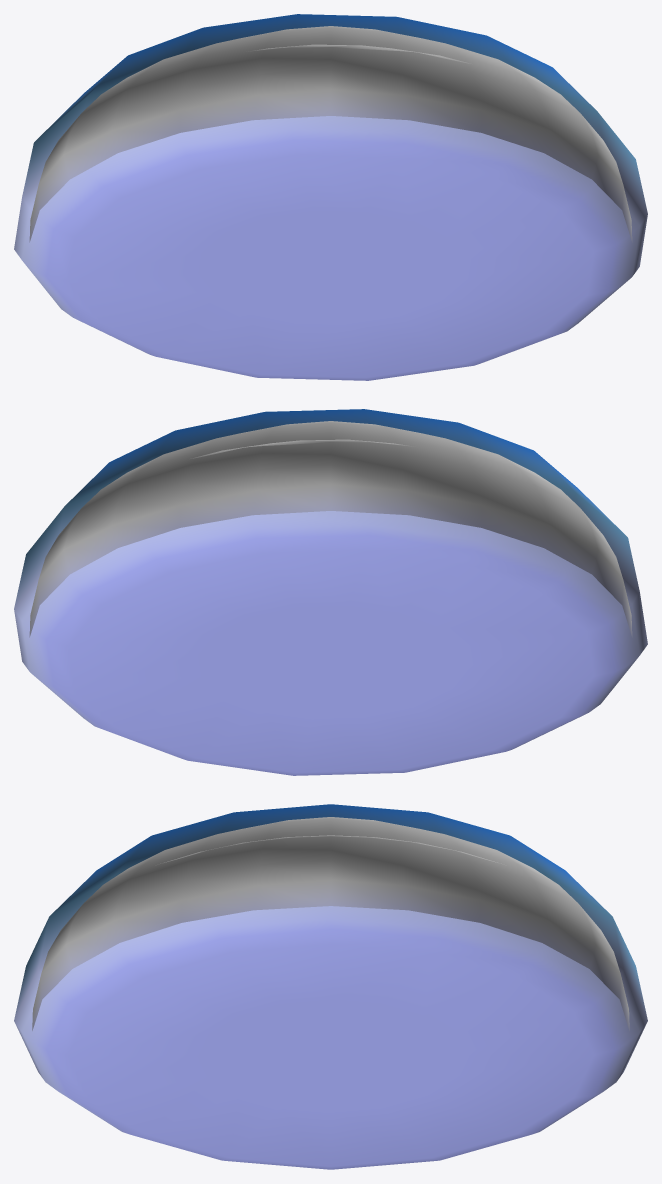
The model's file is DJSky.gltf.
3 views of the same model, one above another, from view 1: azimuth 30°, elevation 25°; view 2: azimuth 150°, elevation 25°; view 3: azimuth 270°, elevation 25° (orthographic).
Visible parts, largest first — view 1: Sky, CloudSide; view 2: Sky, CloudSide; view 3: Sky, CloudSide.
Part boxes in pixels (x1=…): Sky: x1=14, y1=14, x2=647, y2=380; CloudSide: x1=29, y1=26, x2=632, y2=242; Sky: x1=14, y1=409, x2=647, y2=775; CloudSide: x1=29, y1=421, x2=632, y2=637; Sky: x1=14, y1=804, x2=647, y2=1169; CloudSide: x1=32, y1=817, x2=629, y2=1030.
Size of the model in its own units: 5000 by 1550 by 5000.
